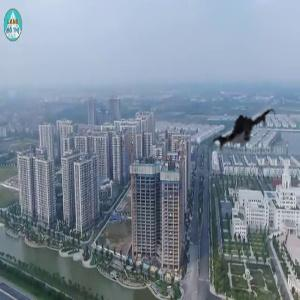drone: (208, 93, 280, 165)
